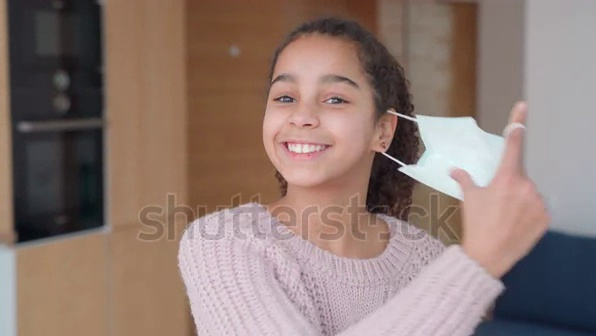No Mask: (259, 116, 369, 187)
